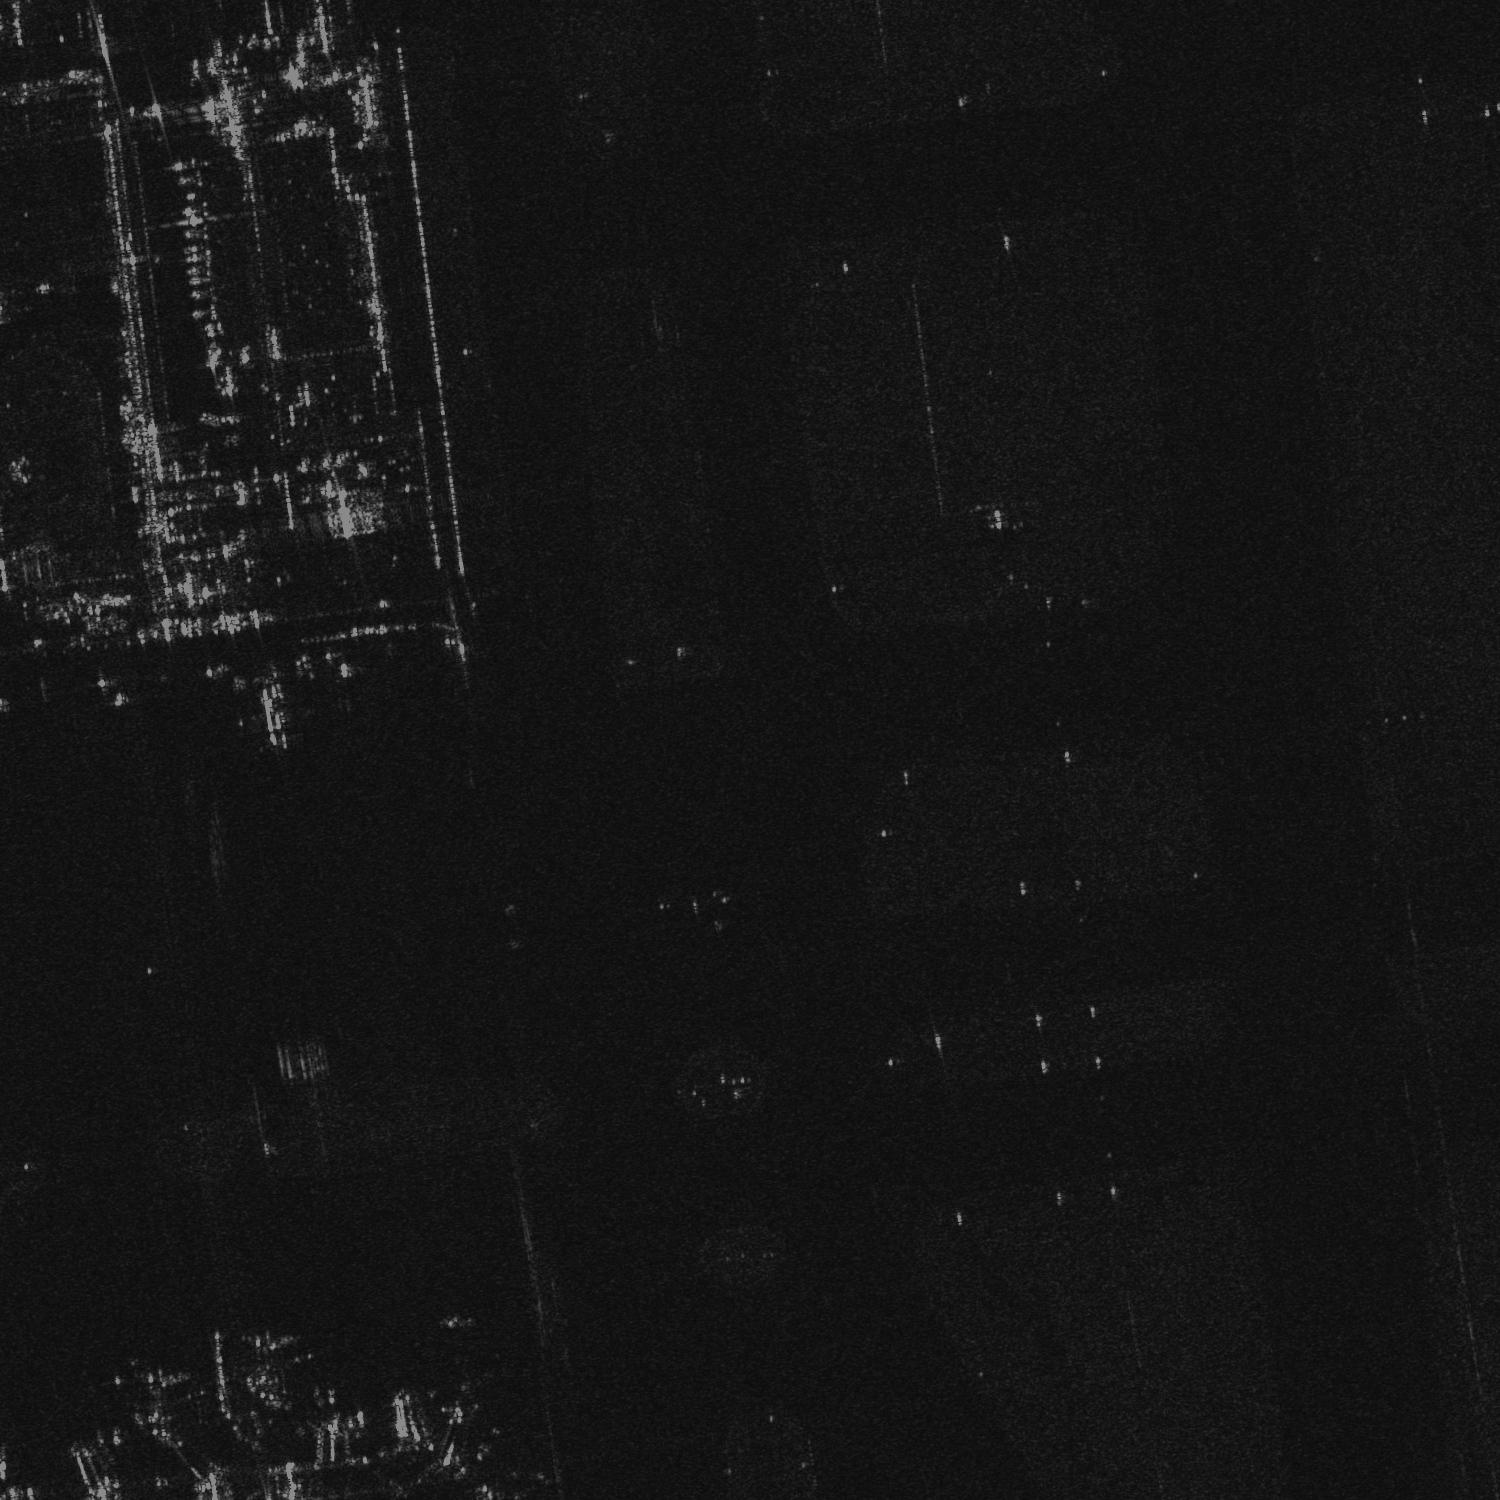A220: (129, 1352, 191, 1407), (236, 1317, 295, 1365)
Boeing737: (236, 674, 316, 758)
